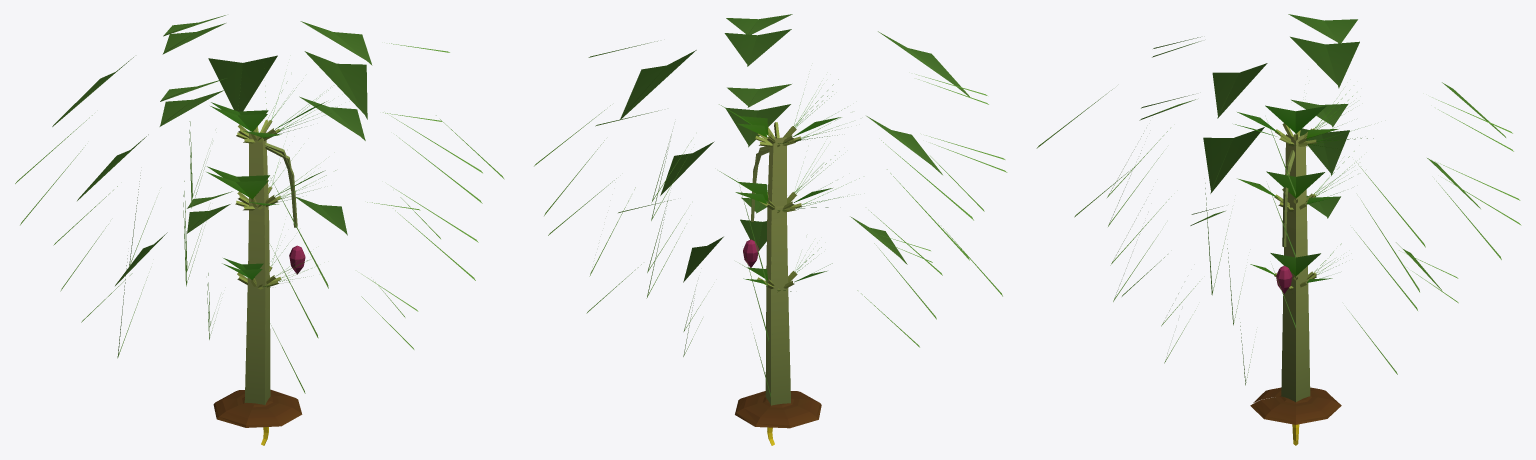
File: banana.glb
3 renders of one model, left to right at view 1: azimuth 30°, elevation 25°; view 2: azimuth 150°, elevation 25°; view 3: azimuth 270°, elevation 25°, orthographic. The views are drawn at different scales.
Visible parts, largest first — view 1: stage4_leaf, stage4_stem, stage4_l1_leaf, stage4_l1_stem, stage3_leaf, stage2_soil, stage3_l1_leaf, stage2_leaf, stage2_l1_leaf; view 2: stage4_leaf, stage4_stem, stage4_l1_stem, stage3_leaf, stage2_soil, stage4_l1_leaf, stage2_leaf, stage3_l1_leaf, stage2_l1_leaf; view 3: stage3_leaf, stage4_leaf, stage4_l1_stem, stage4_l1_leaf, stage4_stem, stage2_soil, stage3_l1_leaf, stage2_leaf.
Boxes of the visible parts, x1,y1,x2,y2 form: stage4_leaf: (15, 15, 504, 288); stage4_stem: (238, 120, 297, 403); stage4_l1_leaf: (20, 23, 482, 225); stage4_l1_stem: (236, 120, 297, 404); stage3_leaf: (53, 78, 478, 358); stage2_soil: (213, 389, 302, 427); stage3_l1_leaf: (60, 90, 475, 291); stage2_leaf: (81, 191, 418, 393); stage2_l1_leaf: (187, 204, 420, 349); stage4_leaf: (534, 14, 987, 286); stage4_stem: (751, 122, 801, 404); stage4_l1_stem: (751, 125, 796, 405); stage3_leaf: (548, 84, 1005, 341); stage2_soil: (735, 391, 821, 428); stage4_l1_leaf: (544, 29, 988, 260); stage2_leaf: (586, 197, 930, 396); stage3_l1_leaf: (646, 104, 1007, 319); stage2_l1_leaf: (683, 219, 932, 356); stage3_leaf: (1074, 94, 1520, 325); stage4_leaf: (1036, 14, 1512, 295); stage4_l1_stem: (1279, 124, 1310, 401); stage4_l1_leaf: (1108, 36, 1513, 292); stage4_stem: (1275, 123, 1316, 402); stage2_soil: (1250, 387, 1341, 424); stage3_l1_leaf: (1113, 99, 1521, 301); stage2_leaf: (1122, 195, 1458, 385).
Size of the model in its own units: 2.89 by 2.54 by 2.94.
